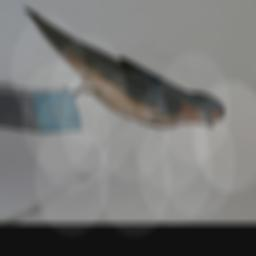Swallow: (18, 1, 231, 134)
